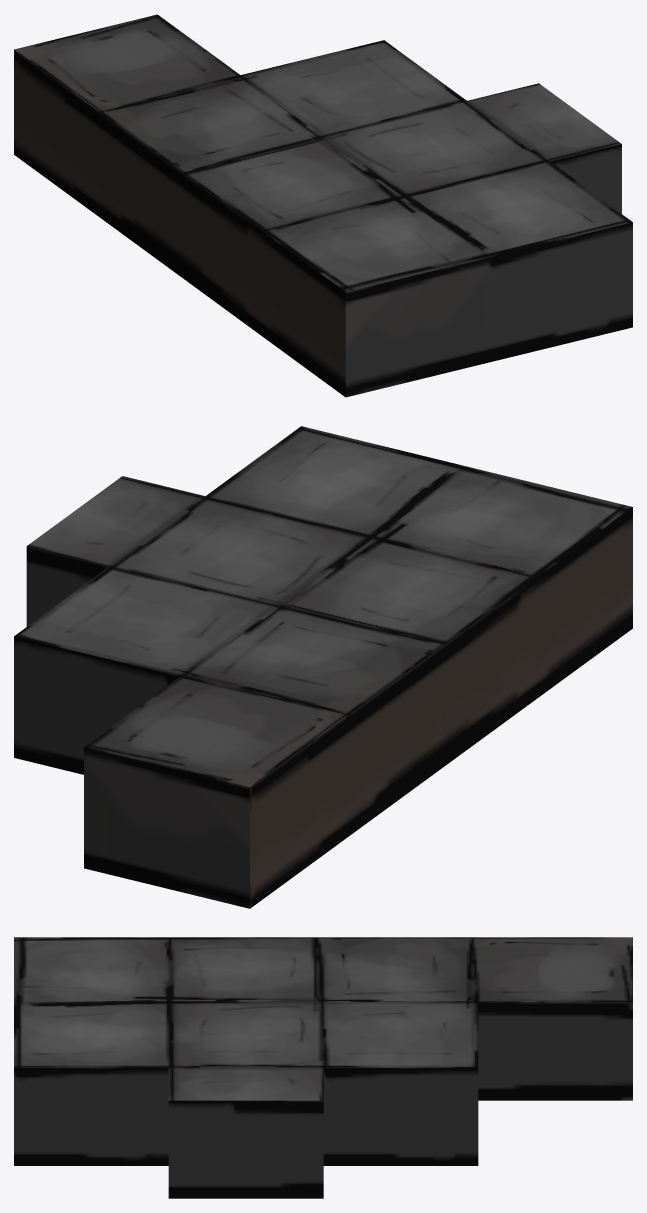
The model's file is floor_tile_broken2.fbx.
3 renders of one model, top to bottom at view 1: azimuth 30°, elevation 25°; view 2: azimuth 150°, elevation 25°; view 3: azimuth 270°, elevation 25°, orthographic. The views are drawn at different scales.
Visible parts, largest first — view 1: floor_tile_broken2; view 2: floor_tile_broken2; view 3: floor_tile_broken2.
Boxes of the visible parts, left/top/right/bottom form: floor_tile_broken2: left=14, top=14, right=632, bottom=397; floor_tile_broken2: left=14, top=426, right=632, bottom=908; floor_tile_broken2: left=14, top=937, right=632, bottom=1198.
Bounding box in the file's own units: 6.25 × 1.75 × 10.
